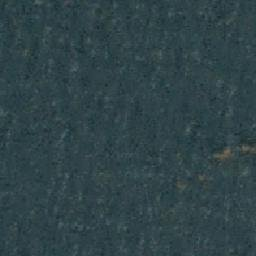debris: (213, 144, 256, 163)
